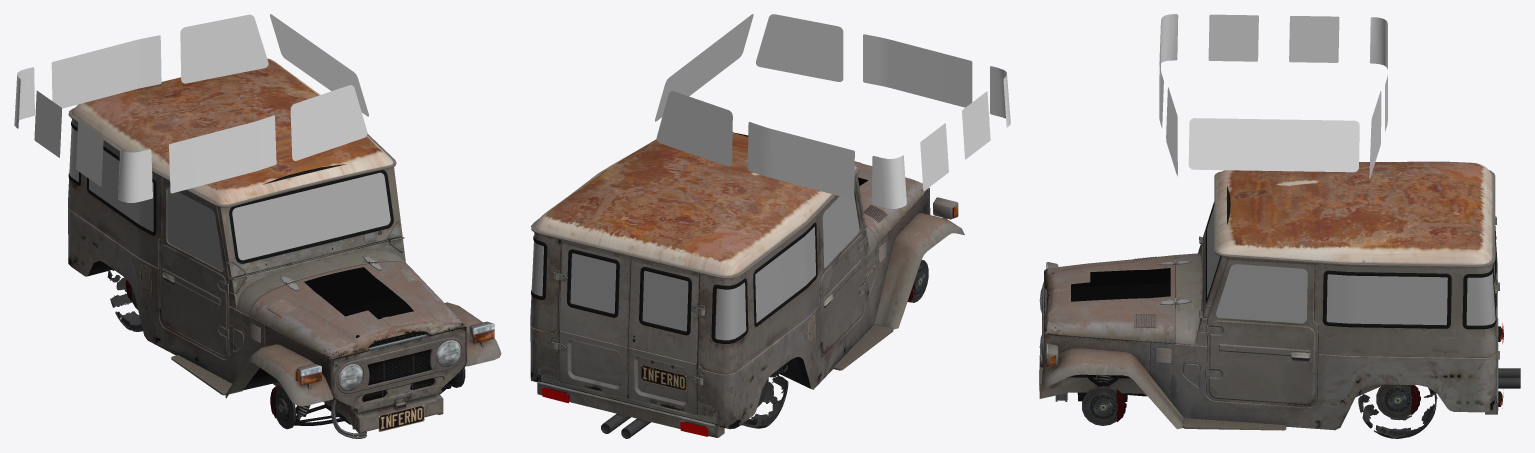
Rendered from 29_InfernoFJ.fbx.
The picture shows the model from 3 angles, left to right: view 1: azimuth 30°, elevation 25°; view 2: azimuth 150°, elevation 25°; view 3: azimuth 270°, elevation 25°; orthographic projection. The views are drawn at different scales.
Visible parts, largest first — view 1: body_duco, glass_internal, body_glass, 00kit_duco, body_matte, body_glossy, Rotor; view 2: body_duco, glass_internal, body_glass, body_matte, 00kit_duco, BrakeLights, body_glossy, body_chrome, Rotor; view 3: body_duco, glass_internal, body_glass, 00kit_duco, body_matte, Rotor (×2), body_glossy, body_chrome.
Boxes of the visible parts, x1,y1,x2,y2 form: body_duco: [68, 58, 501, 434]; glass_internal: [14, 14, 368, 202]; body_glass: [69, 127, 390, 271]; 00kit_duco: [249, 255, 466, 359]; body_matte: [68, 121, 457, 438]; body_glossy: [295, 321, 494, 391]; Rotor: [275, 385, 296, 429]; body_duco: [530, 133, 964, 437]; glass_internal: [655, 14, 1010, 208]; body_glass: [531, 196, 859, 340]; body_matte: [531, 222, 817, 438]; 00kit_duco: [854, 161, 929, 244]; BrakeLights: [542, 387, 708, 436]; body_glossy: [548, 197, 958, 426]; body_chrome: [603, 413, 651, 438]; Rotor: [911, 260, 928, 302]; body_duco: [1039, 161, 1499, 430]; glass_internal: [1159, 14, 1387, 178]; body_glass: [1207, 206, 1495, 325]; 00kit_duco: [1044, 255, 1191, 343]; body_matte: [1055, 203, 1520, 401]; Rotor (×2): [1082, 384, 1412, 425]; body_glossy: [1039, 262, 1502, 406]; body_chrome: [1498, 368, 1520, 388].
Size of what is drawn, in the model's own units: 2.69 by 2.47 by 3.64.
